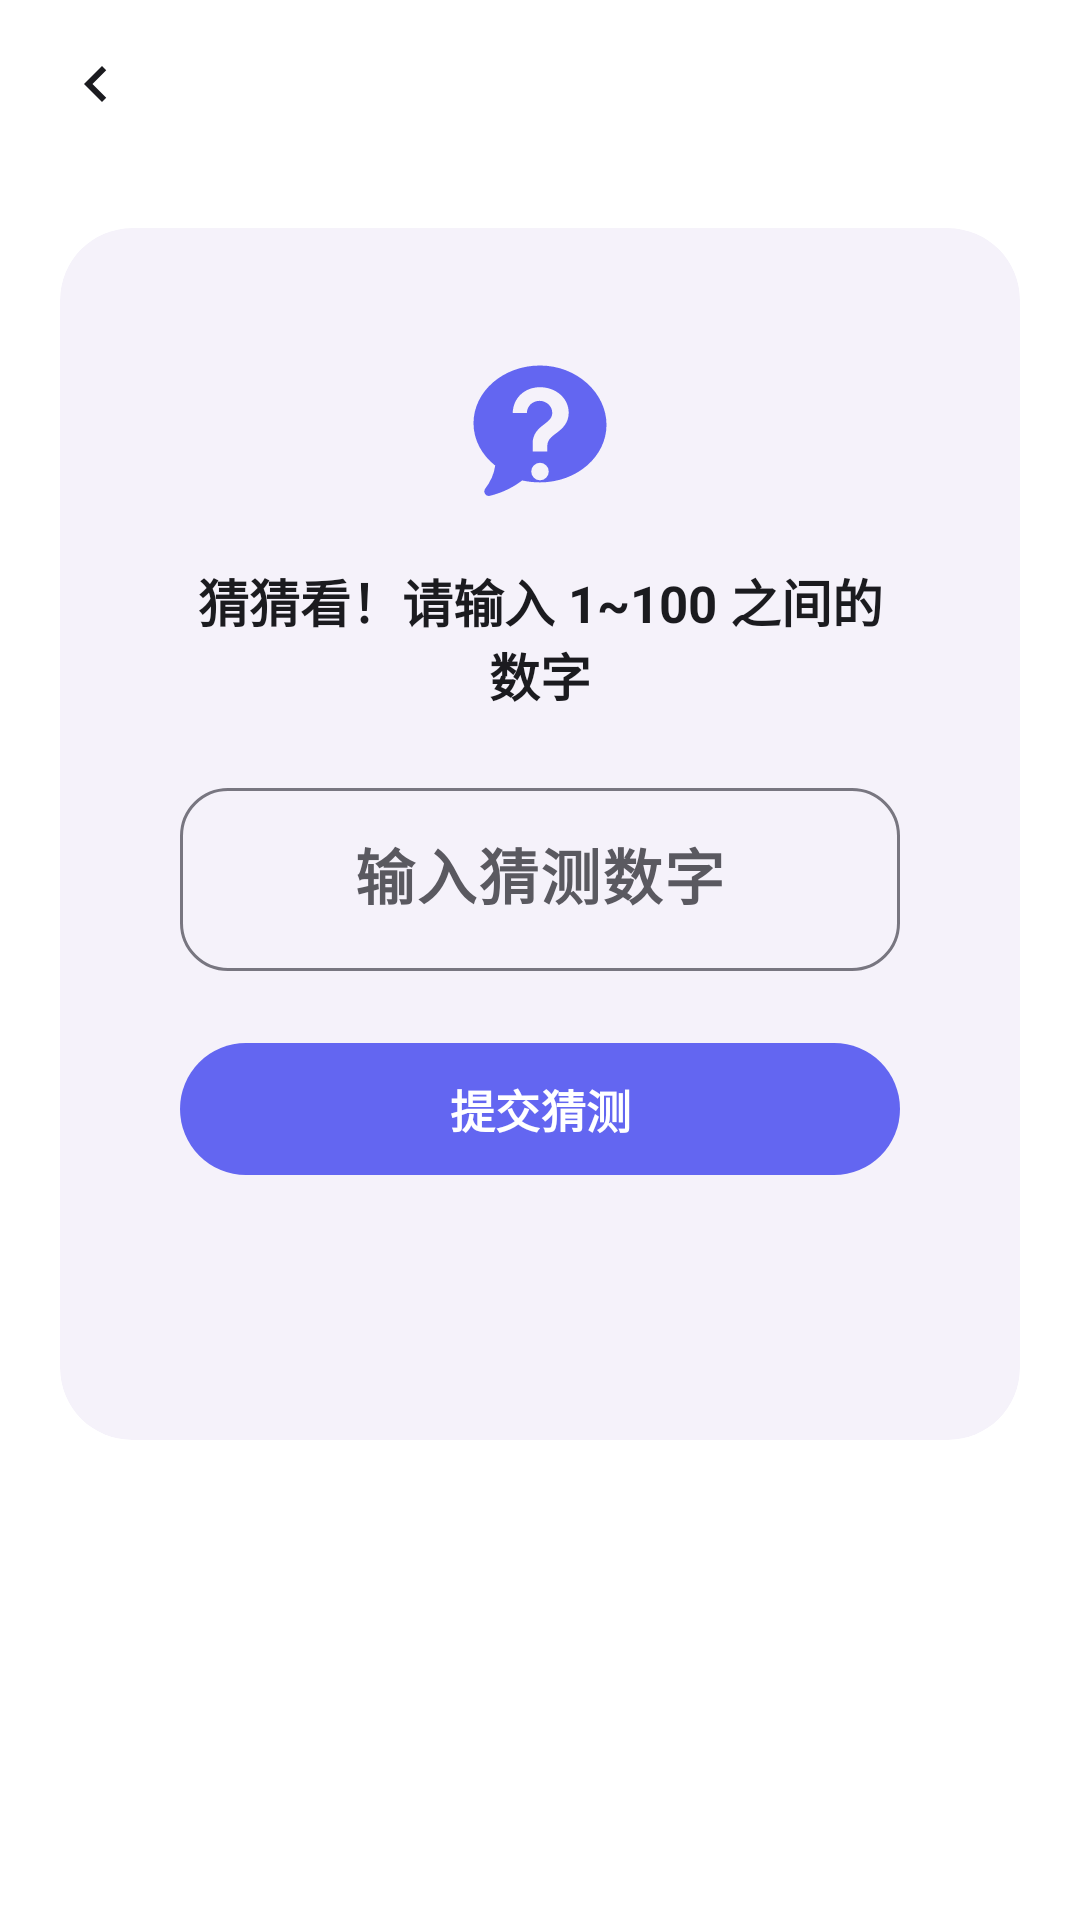

Icon bounding boxes for this 1080 x 1920 phone screenshot, format (x1, y1, x2, y2):
guess: (473, 365, 607, 496)
返回: (84, 66, 106, 102)
